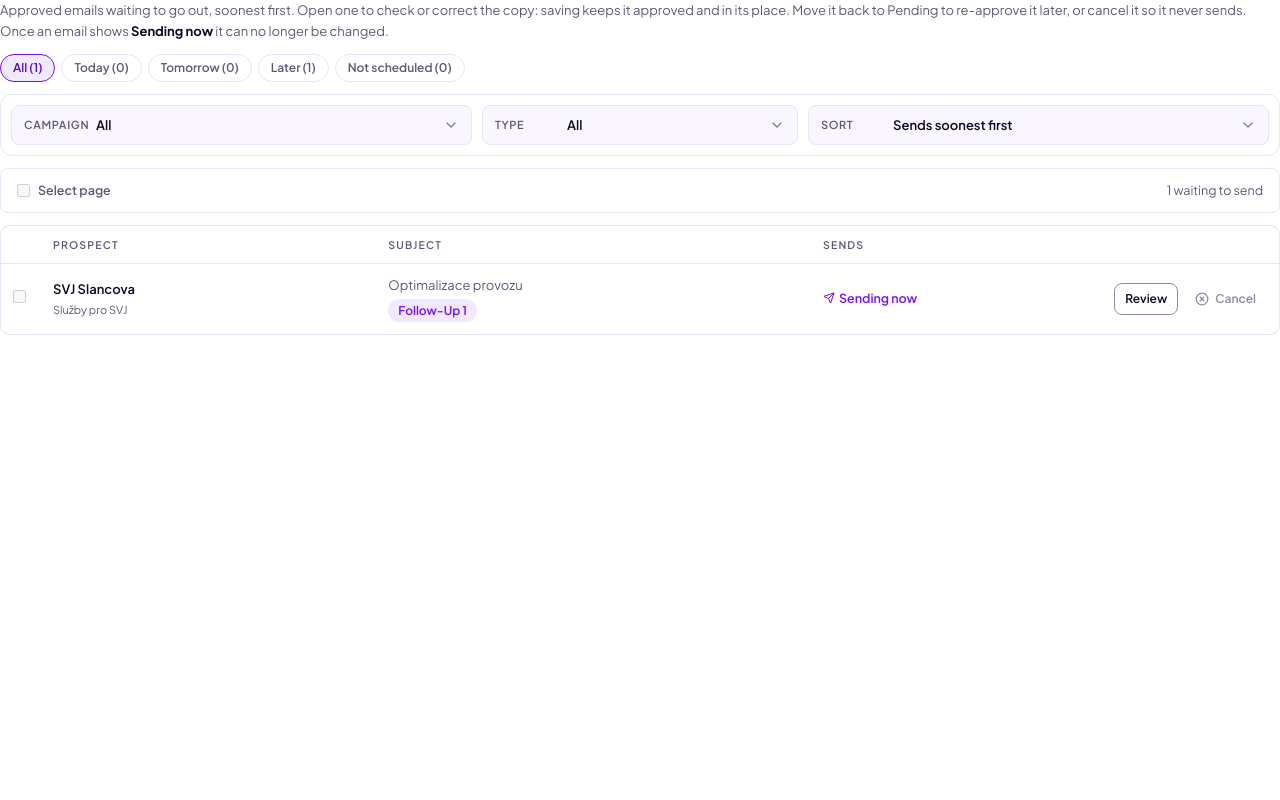
Test case: SendQueue › locks an email the sender has already picked up
The image size is (1280, 800).
Expected: the text "Sending now" is shown, [131,23,213,39]
Click the button "Review": click(1146, 299) [1114,283,1178,315]
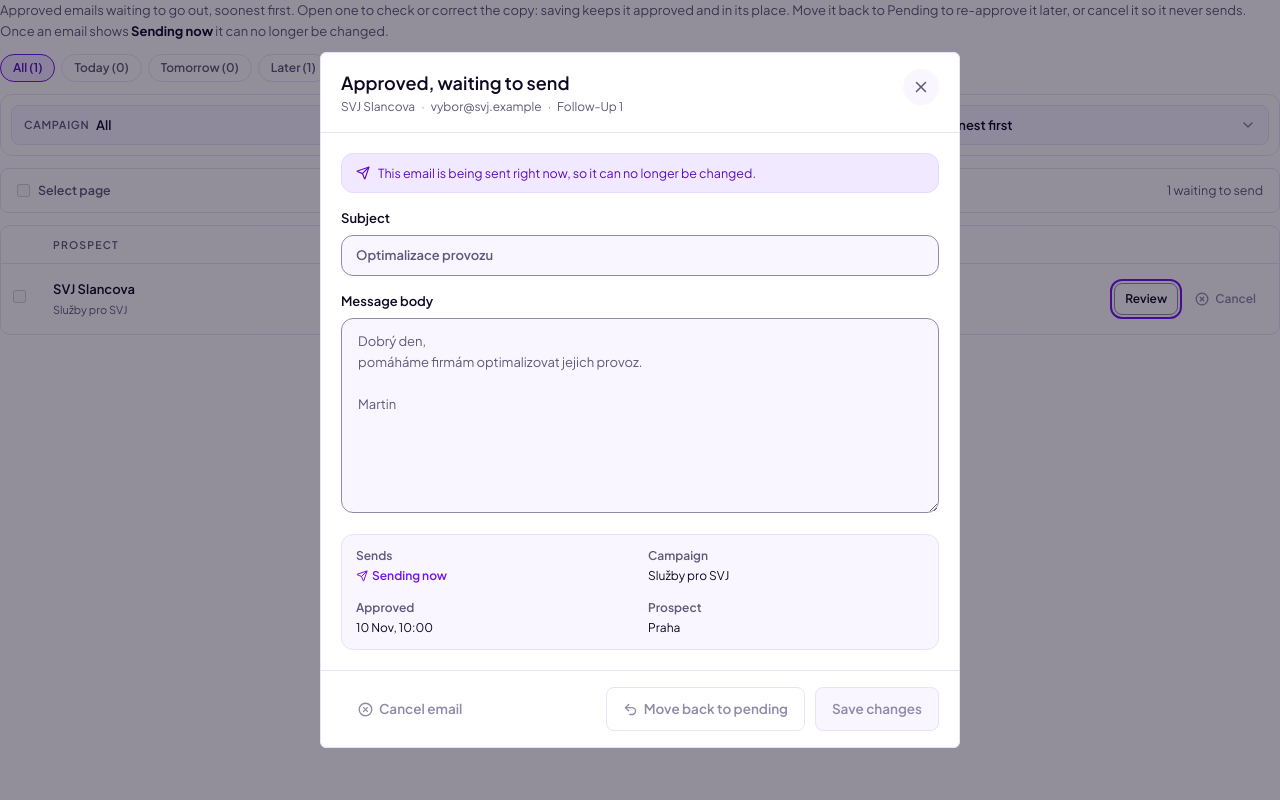
Expected: the text box labelled "Message body" is disabled, [341,318,939,513]
Expected: the button "Cancel email" is disabled, [341,687,479,731]
Expected: the button "Move back to pending" is disabled, [606,687,805,731]
